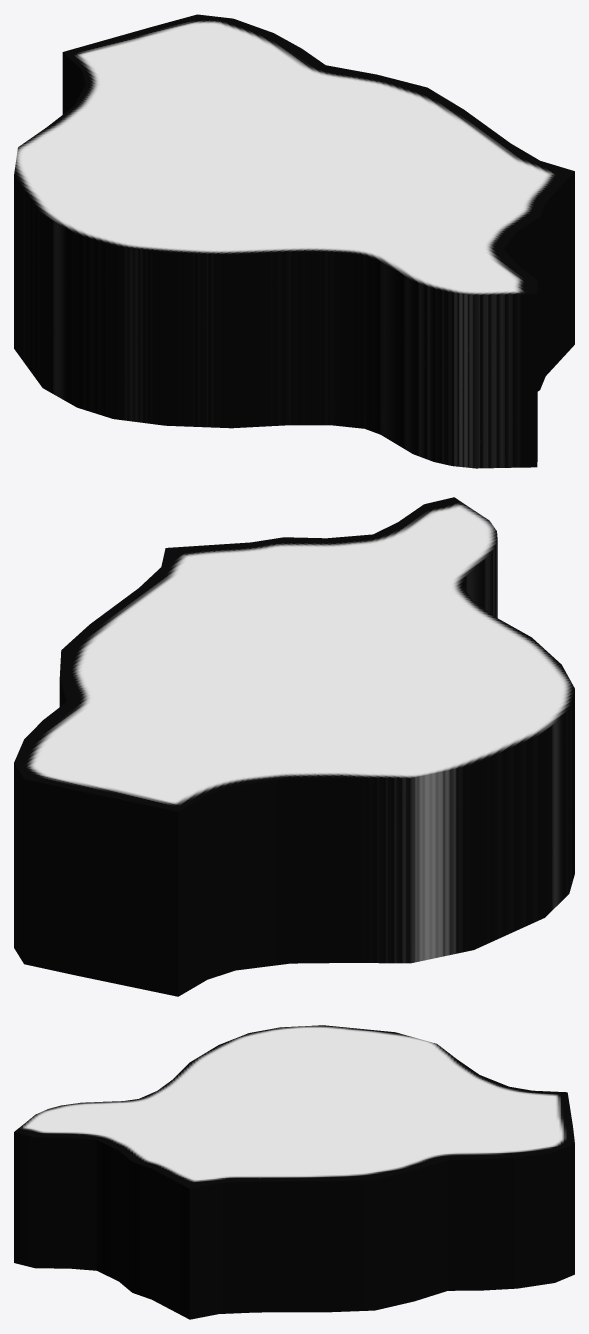
The picture shows the model from 3 angles, top to bottom: view 1: azimuth 30°, elevation 25°; view 2: azimuth 150°, elevation 25°; view 3: azimuth 270°, elevation 25°; orthographic projection. The views are drawn at different scales.
Visible parts, largest first — view 1: polySurface40; view 2: polySurface40; view 3: polySurface40.
Part boxes in pixels (x1=…): polySurface40: x1=14, y1=14, x2=574, y2=468; polySurface40: x1=14, y1=497, x2=574, y2=996; polySurface40: x1=14, y1=1025, x2=574, y2=1319.
Size of the model in its own units: 1.34 by 0.5 by 1.94.
